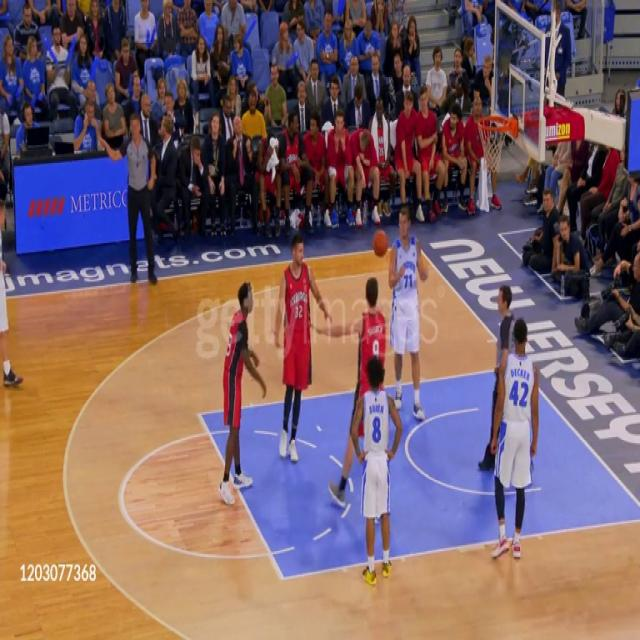ball: (373, 230, 389, 259)
